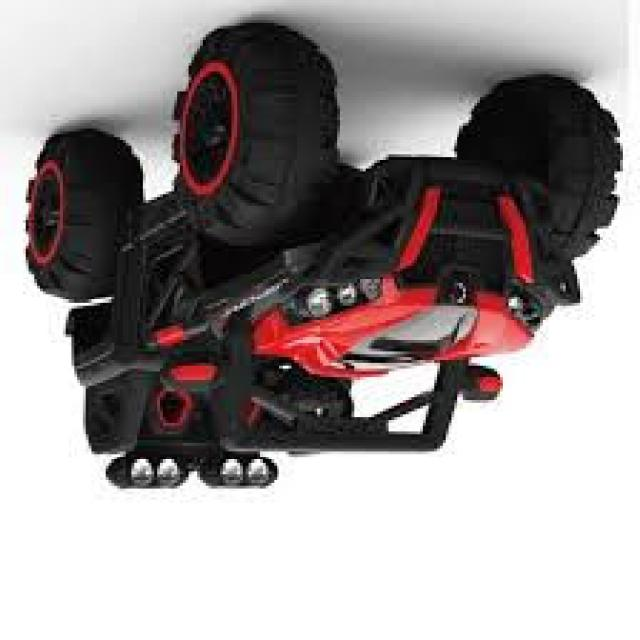Car: (23, 23, 626, 494)
